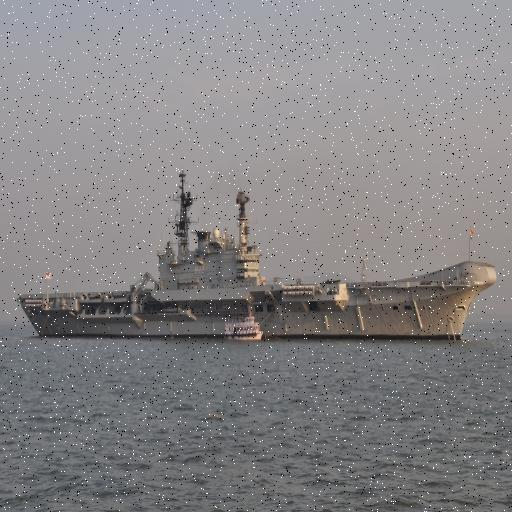Portanaves: (16, 164, 501, 343)
